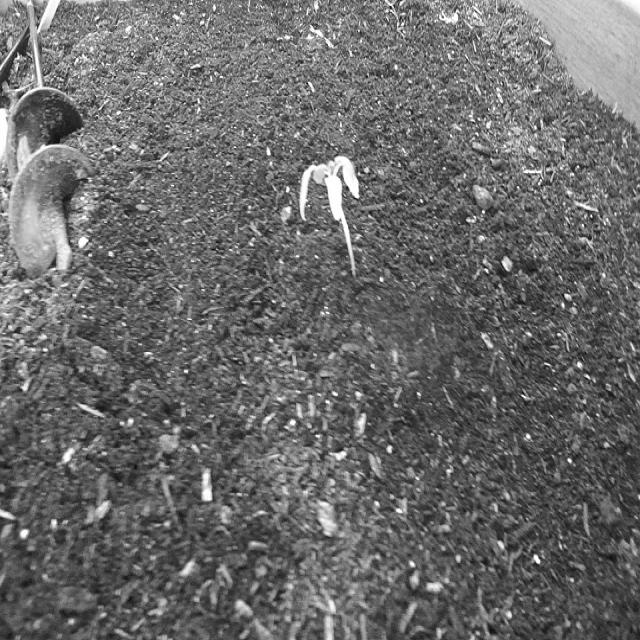Healthy: (292, 139, 372, 301)
